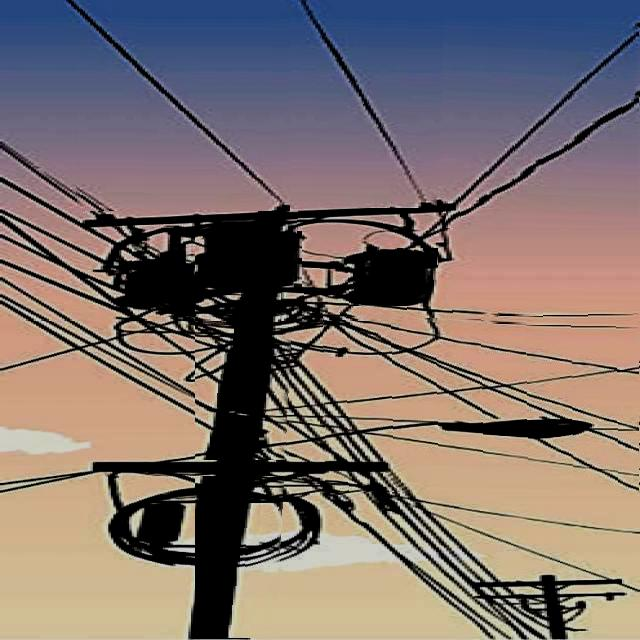crossarm: (86, 200, 457, 231), (94, 460, 389, 476)
pole: (195, 209, 297, 638)
transformer: (206, 224, 302, 291), (119, 246, 209, 317), (338, 248, 438, 303)
wire: (324, 317, 639, 492), (66, 0, 290, 211), (443, 24, 639, 213), (299, 2, 439, 208), (447, 95, 639, 228), (339, 307, 640, 363), (281, 293, 640, 327)
